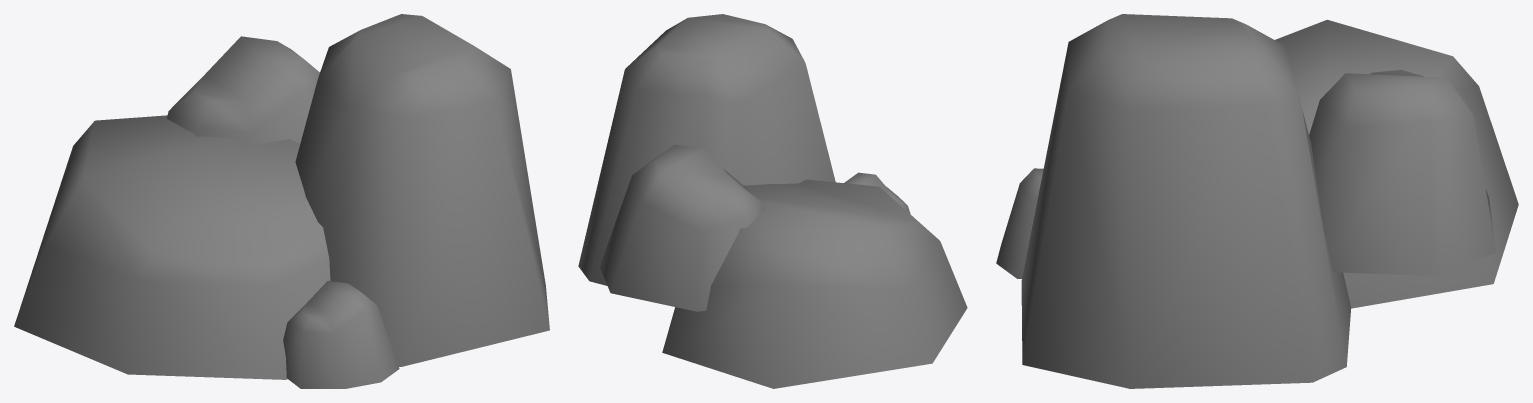
File: shi07.FBX
3 views of the same model, side by side, from view 1: azimuth 30°, elevation 25°; view 2: azimuth 150°, elevation 25°; view 3: azimuth 270°, elevation 25° (orthographic). The views are drawn at different scales.
Visible parts, largest first — view 1: shi07; view 2: shi07; view 3: shi07.
Boxes of the visible parts, x1,y1,x2,y2 form: shi07: [14, 14, 549, 388]; shi07: [578, 14, 967, 388]; shi07: [996, 14, 1518, 388].
Bounding box in the file's own units: 570 × 313 × 510.
